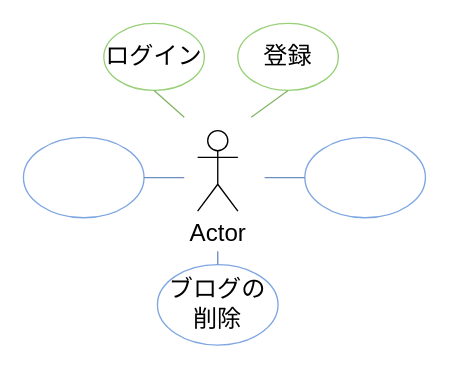
This 449x369 diagram has some shape labels left out. Here are the shapes that lost their labels. From the top down, the box of each, then its label:
(22, 136, 144, 218): ブログの編集
(304, 136, 425, 218): ブログの変更
